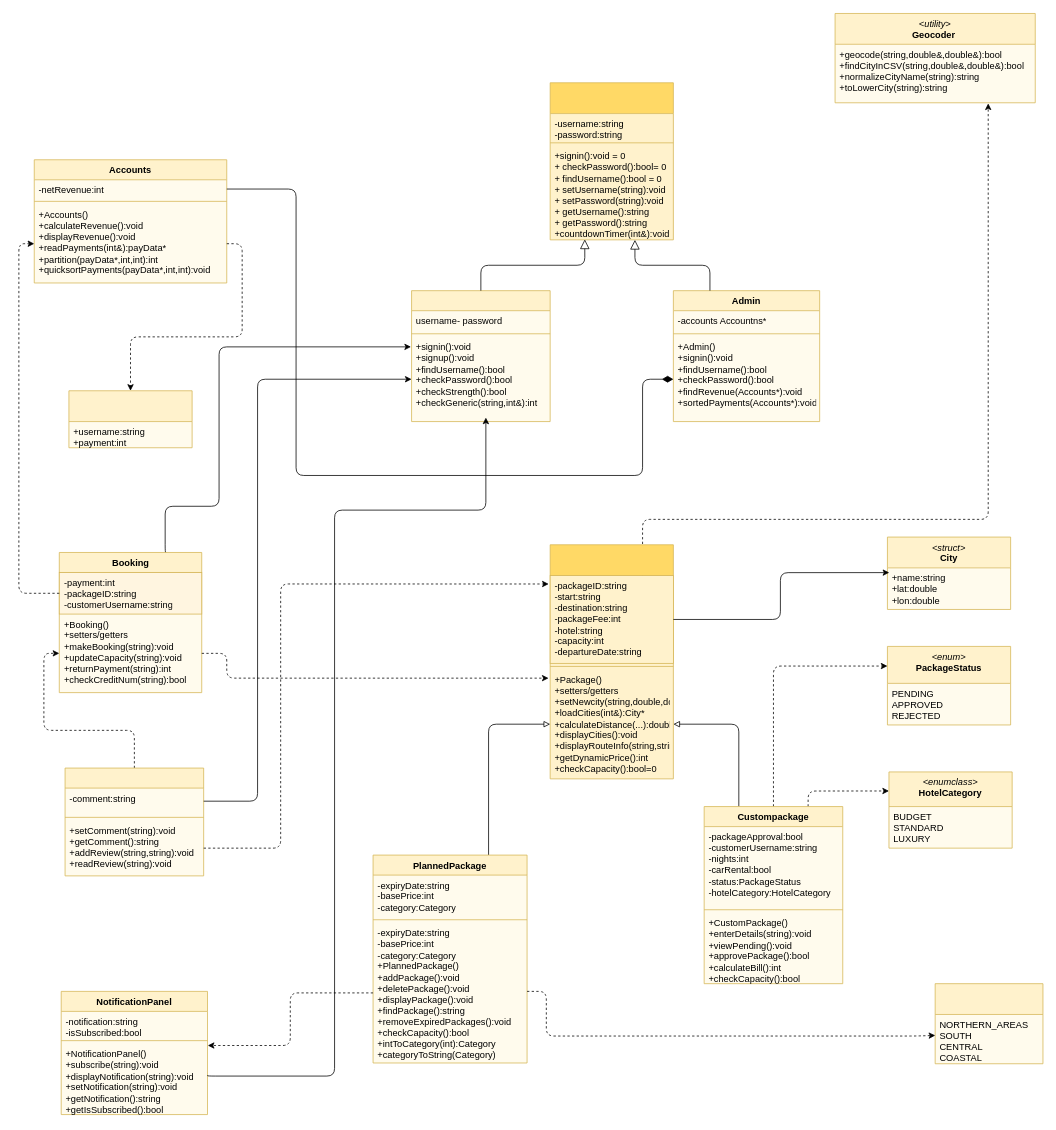
The diagram is 1056 pixels wide and 1130 high, and some of its shapes have lost their labels. The shapes that lost their labels are listed below. From the top down, each one's box as (x1, y1, x2, y2) in pixels, then its label:
(549, 82, 673, 240): <abstract> UserManagement
(411, 290, 550, 422): Customer
(68, 390, 192, 448): <struct> payData
(549, 544, 673, 779): <abstract> Package
(64, 767, 204, 876): CustomerReview
(934, 983, 1043, 1064): <enumclass> Category
